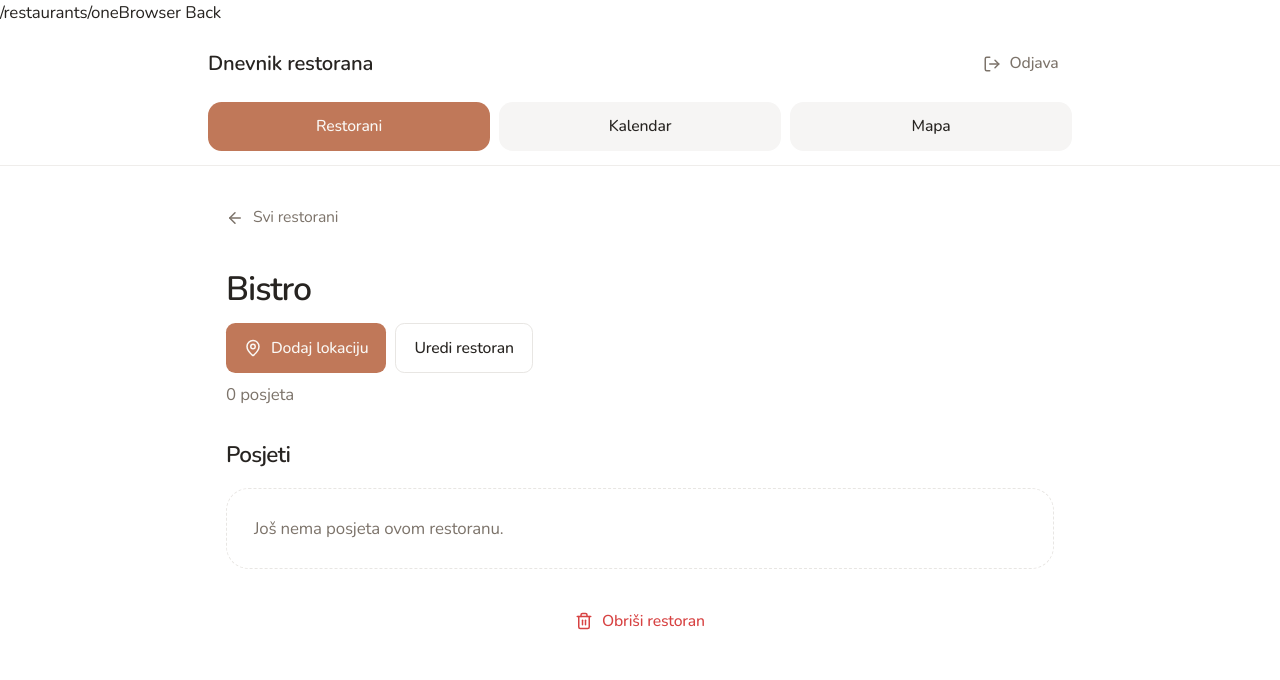
Test case: Restaurant V1 routes › keeps the restaurant and shows the cleanup state when deletion fails
Click the button "Obriši restoran" at (640, 621), box [226, 596, 1054, 646]
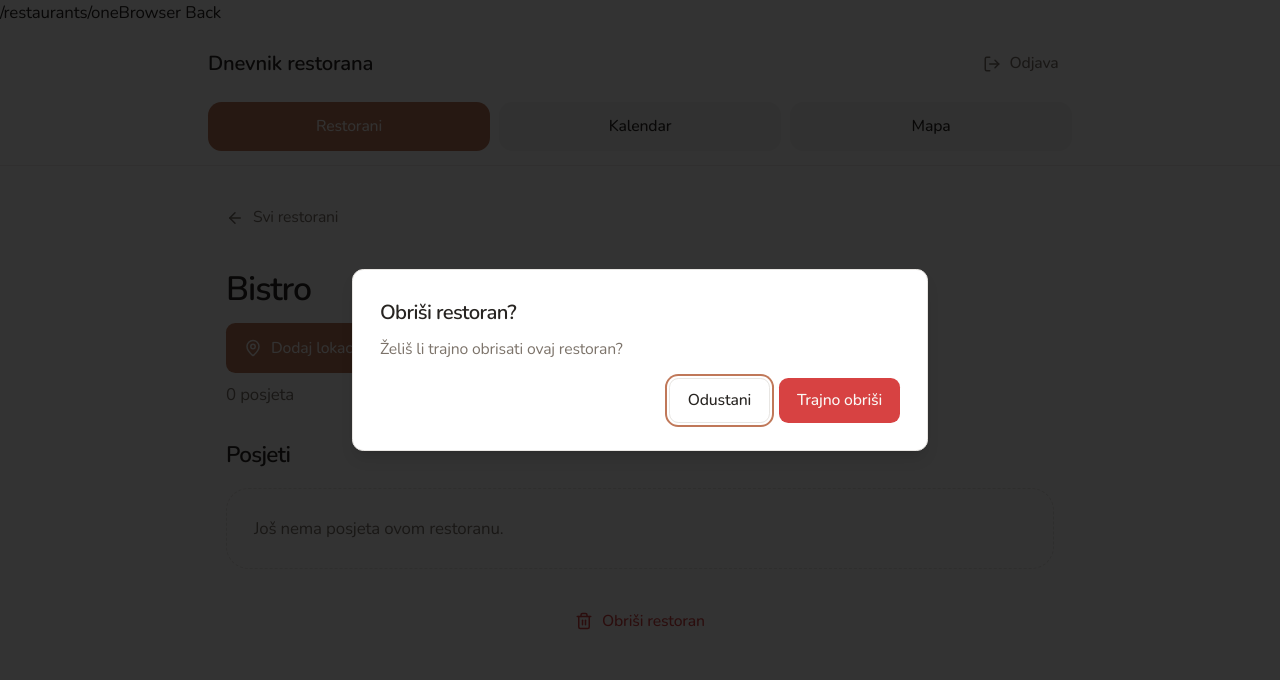
Click the button "Trajno obriši" at (840, 400), box [779, 378, 900, 423]
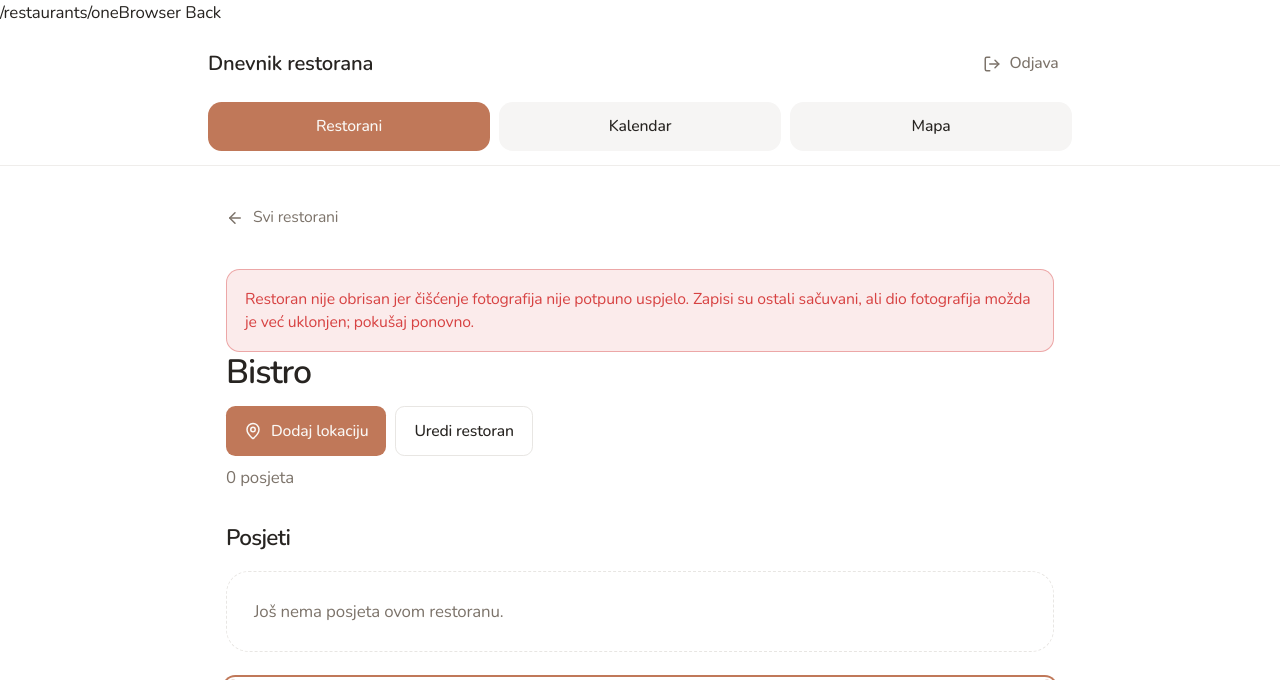
Expected: the text with test id "route" reads "/restaurants/one", [0, 1, 118, 24]
Expected: the message shows "dio fotografija možda je već uklonjen", [245, 288, 1030, 333]
Expected: the dialog is gone
